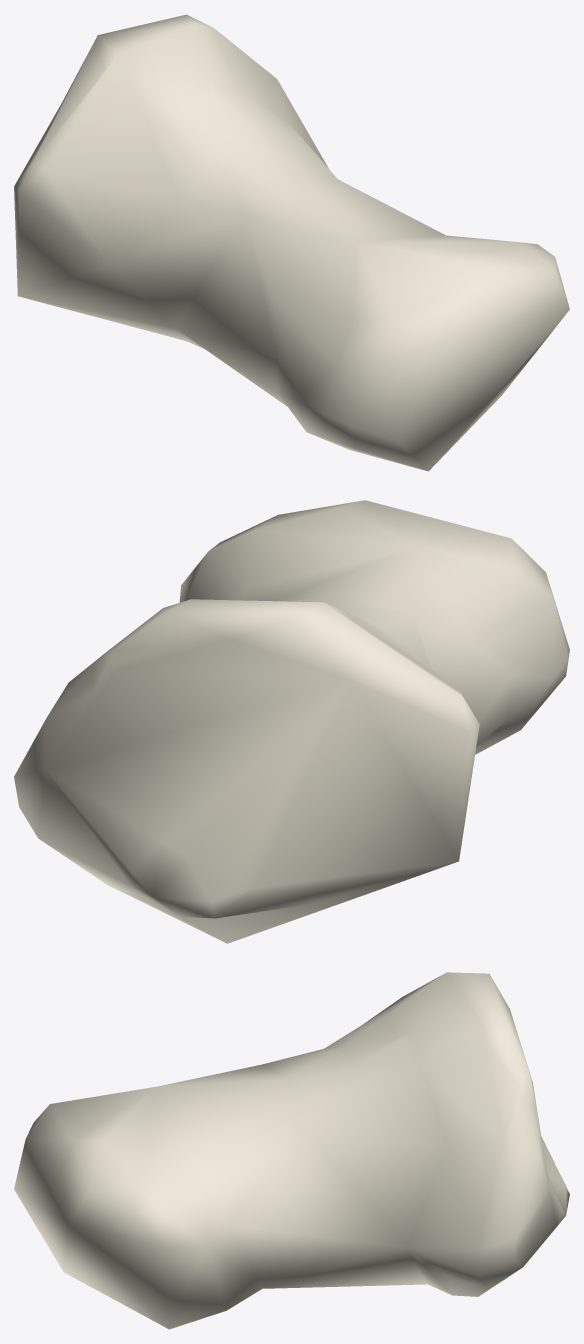
3 renders of one model, top to bottom at view 1: azimuth 30°, elevation 25°; view 2: azimuth 150°, elevation 25°; view 3: azimuth 270°, elevation 25°, orthographic. The views are drawn at different scales.
Visible parts, largest first — view 1: ZA_d400833c81b94266; view 2: ZA_d400833c81b94266; view 3: ZA_d400833c81b94266.
Boxes of the visible parts, bbox=[...] form: ZA_d400833c81b94266: bbox=[14, 14, 569, 471]; ZA_d400833c81b94266: bbox=[14, 500, 569, 943]; ZA_d400833c81b94266: bbox=[14, 972, 569, 1329].
Size of the model in its own units: 0.0102 by 0.00758 by 0.0137.
